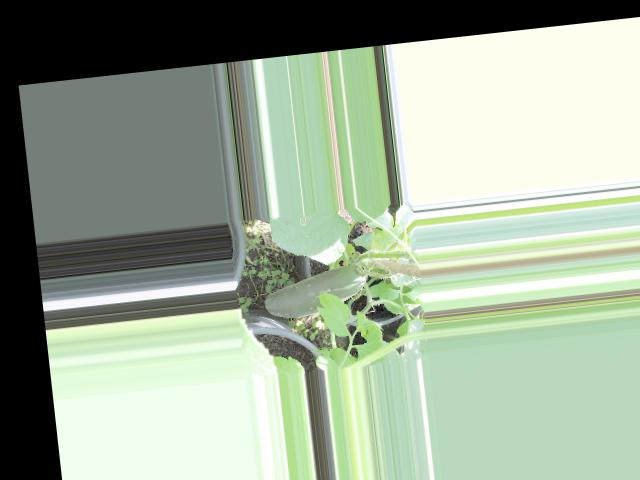cucumber: (261, 262, 370, 320)
